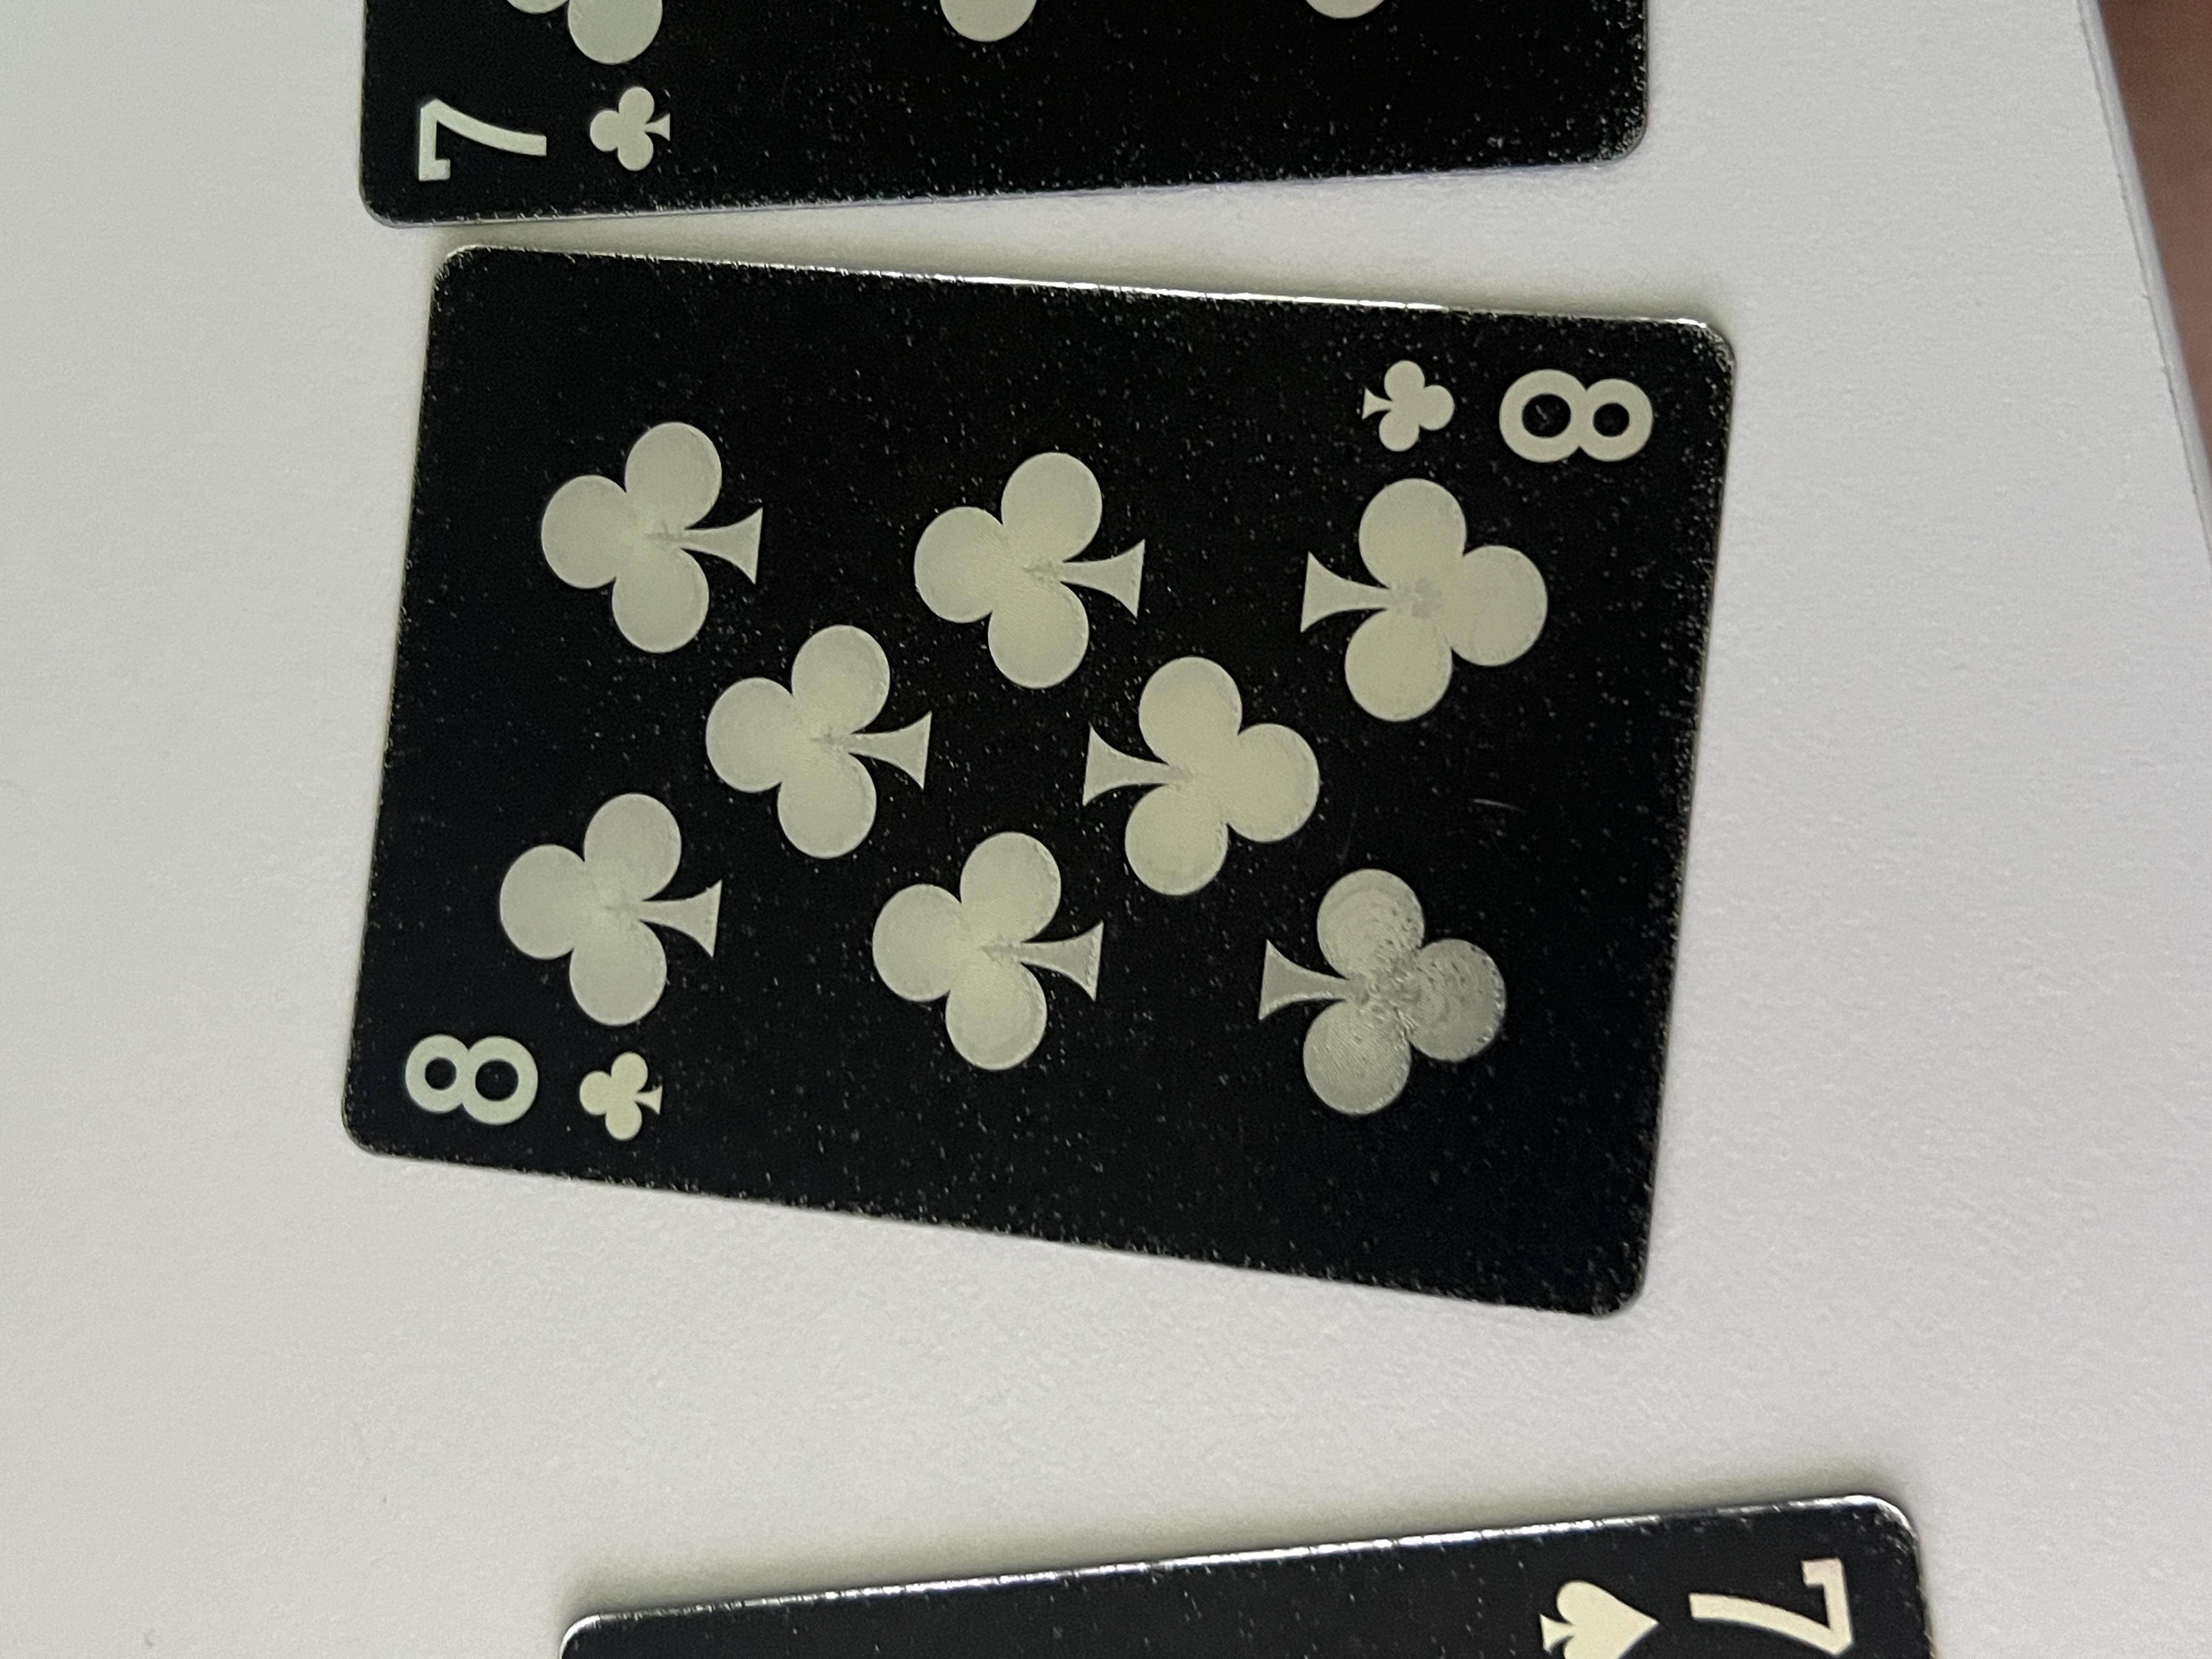7C: (1956, 293, 2121, 512)
7S: (0, 1143, 139, 1410)
8C: (1590, 1007, 1752, 1253), (676, 288, 848, 511)
